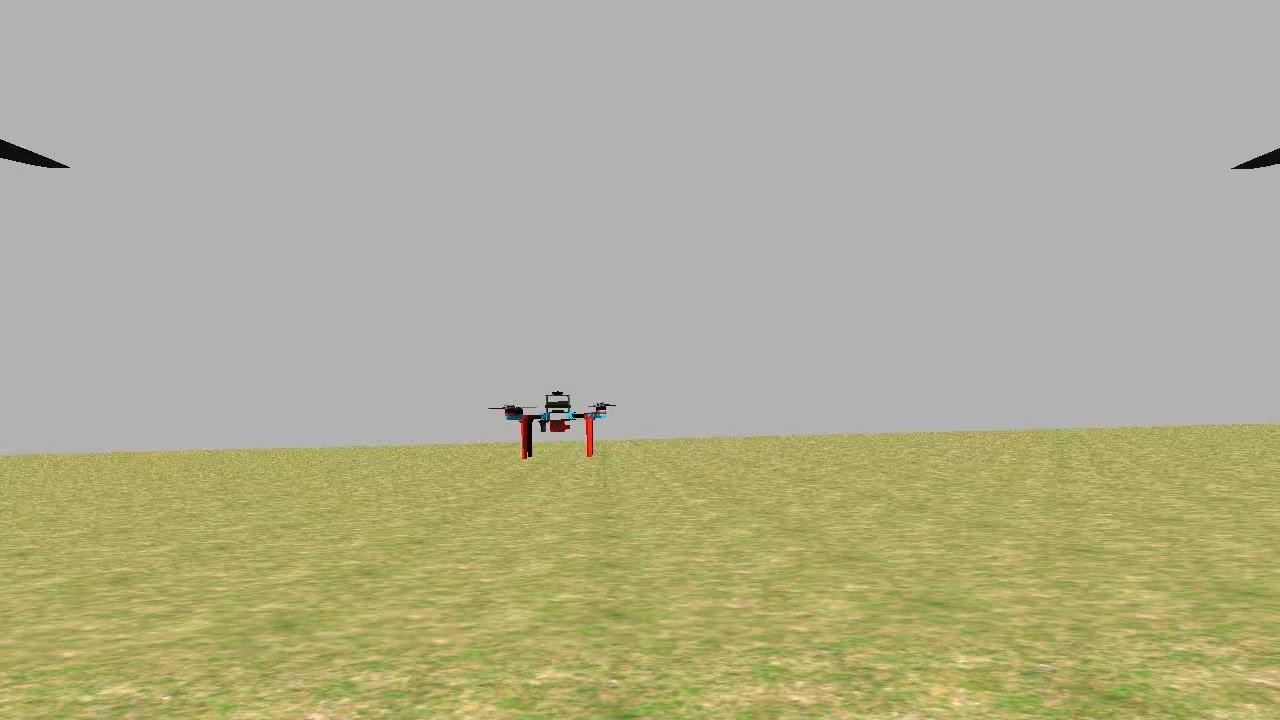UAV: (486, 384, 622, 463)
